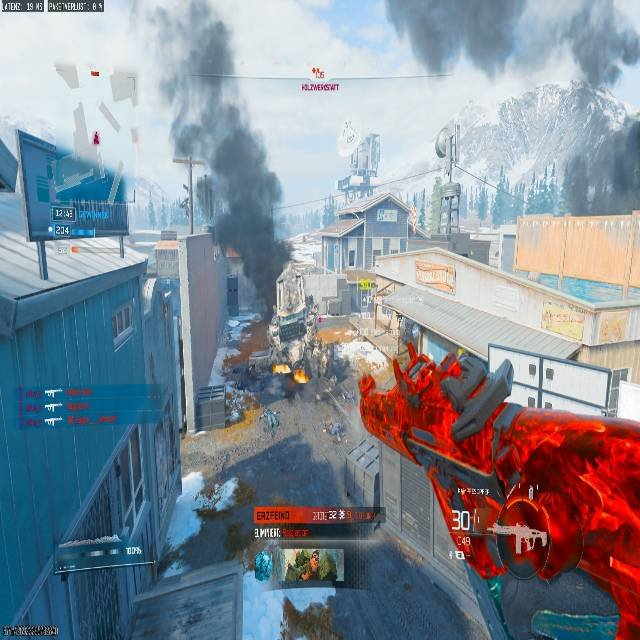head: (305, 293, 314, 304)
player: (302, 294, 319, 345)
